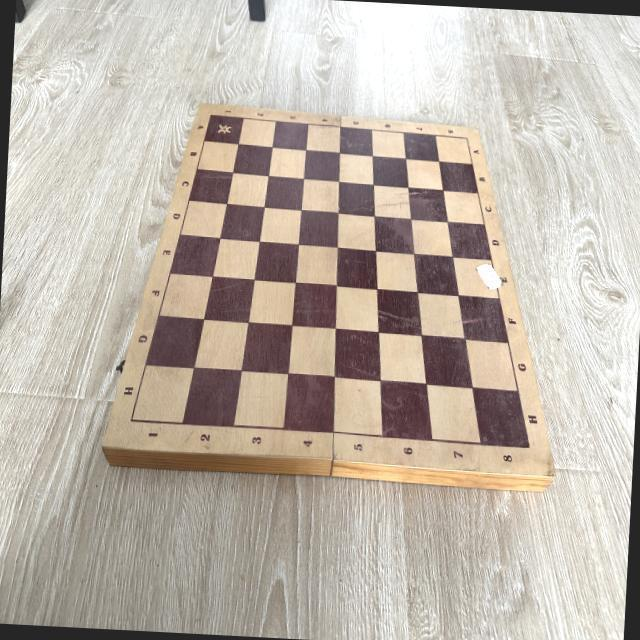chess-table-corners: (206, 108, 217, 122), (127, 414, 136, 426), (526, 442, 532, 453)
